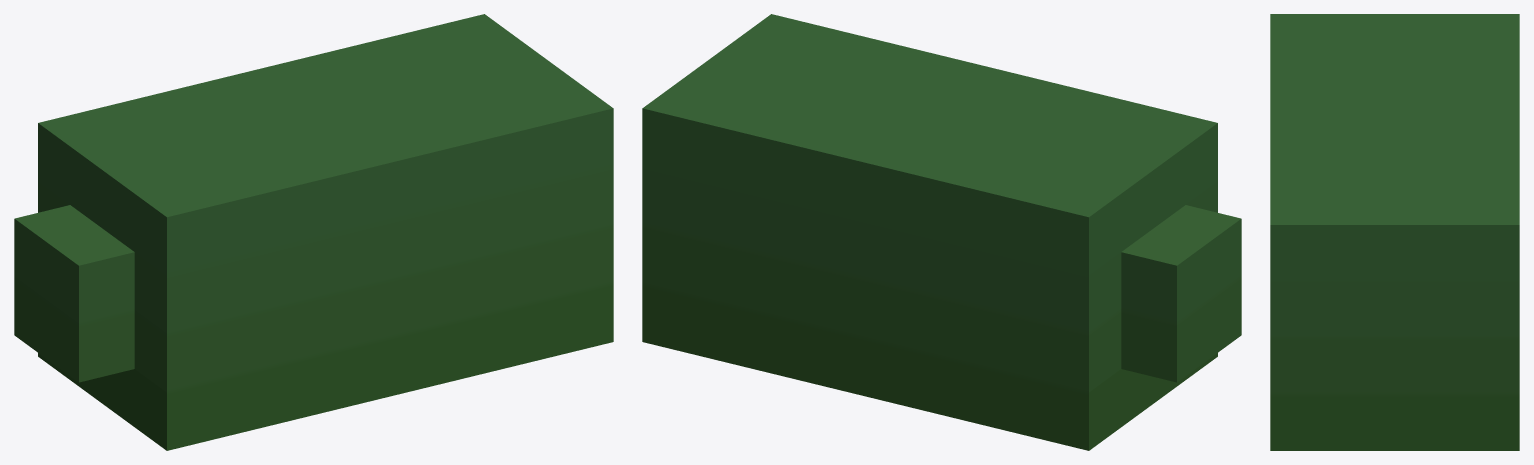
The model's file is Elbow070.fbx.
3 views of the same model, side by side, from view 1: azimuth 30°, elevation 25°; view 2: azimuth 150°, elevation 25°; view 3: azimuth 270°, elevation 25° (orthographic). The views are drawn at different scales.
Parts seen in each view (by area): view 1: Elbow070; view 2: Elbow070; view 3: Elbow070.
Part boxes in pixels (x1=…): Elbow070: x1=14, y1=14, x2=613, y2=450; Elbow070: x1=642, y1=14, x2=1241, y2=450; Elbow070: x1=1270, y1=14, x2=1519, y2=450.
Bounding box in the file's own units: 9 × 4 × 4.
